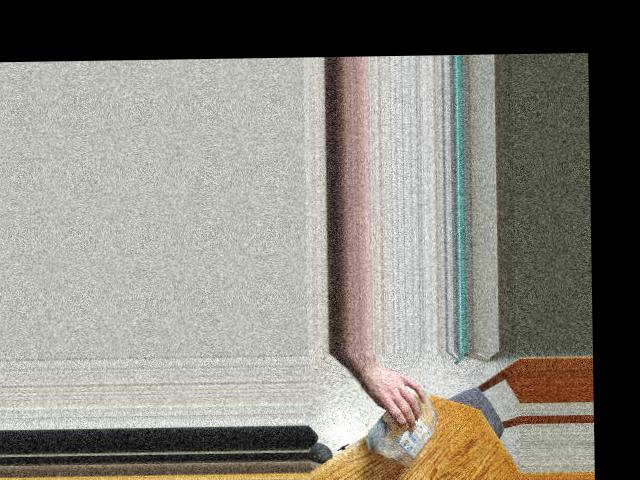cheese: (366, 379, 441, 470)
